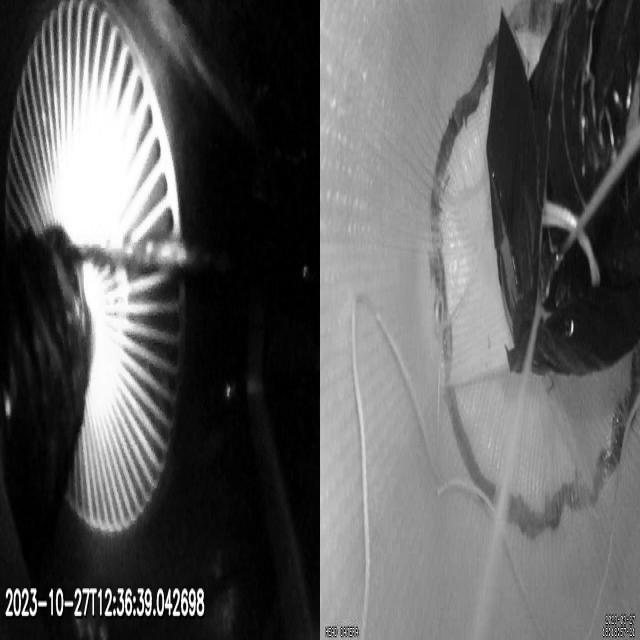red-circle: (429, 0, 640, 544)
